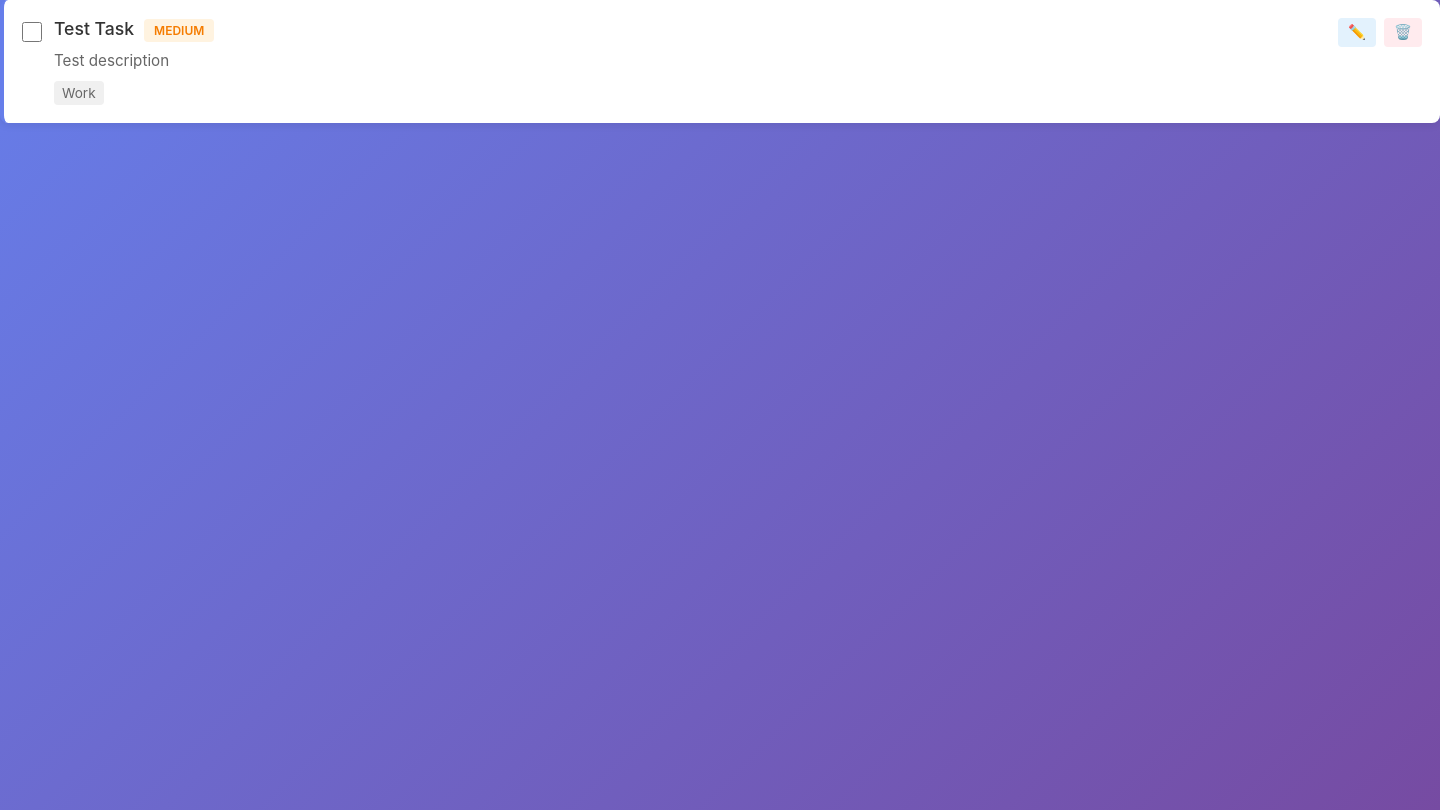
Test case: TodoItem › restores original values and exits edit mode when Cancel is clicked
The width and height of the screenshot is (1440, 810).
Click the button titled "Edit" at point(1357, 32), box [1338, 18, 1376, 47]
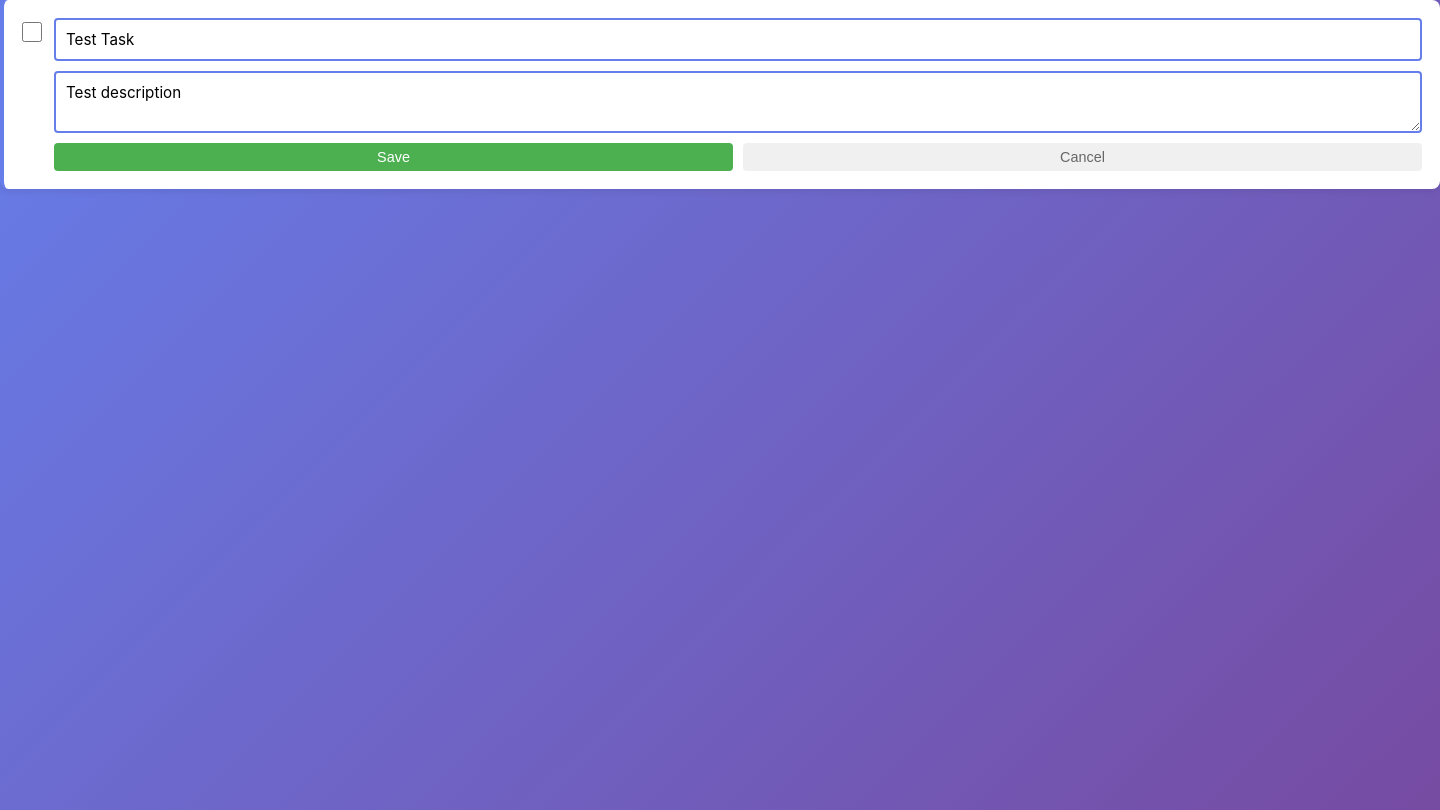
Replace the text in the field with placeholder "Title" with "Changed" at point(738, 40), box [54, 18, 1422, 61]
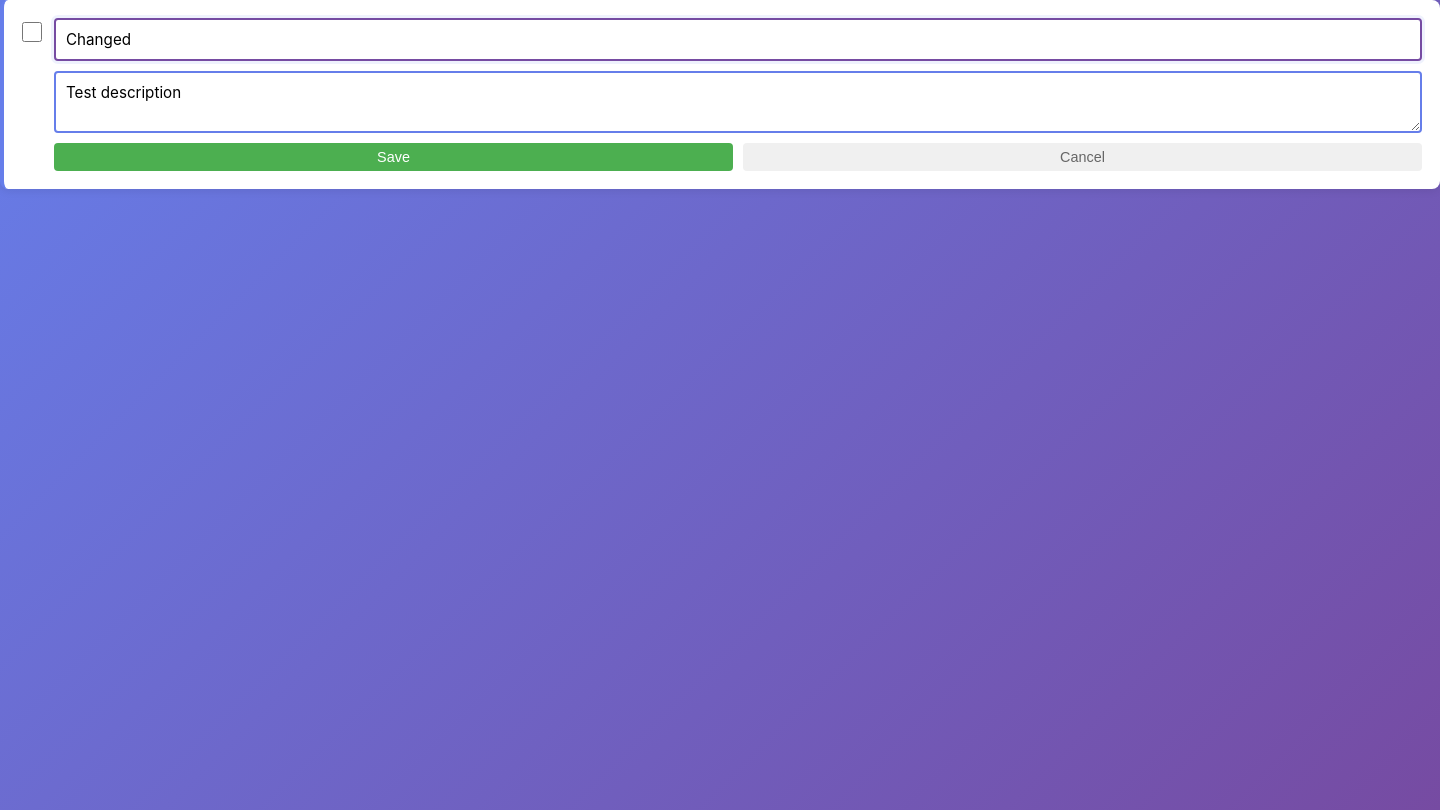
Click the button "Cancel" at point(1082, 157), box [743, 143, 1422, 171]
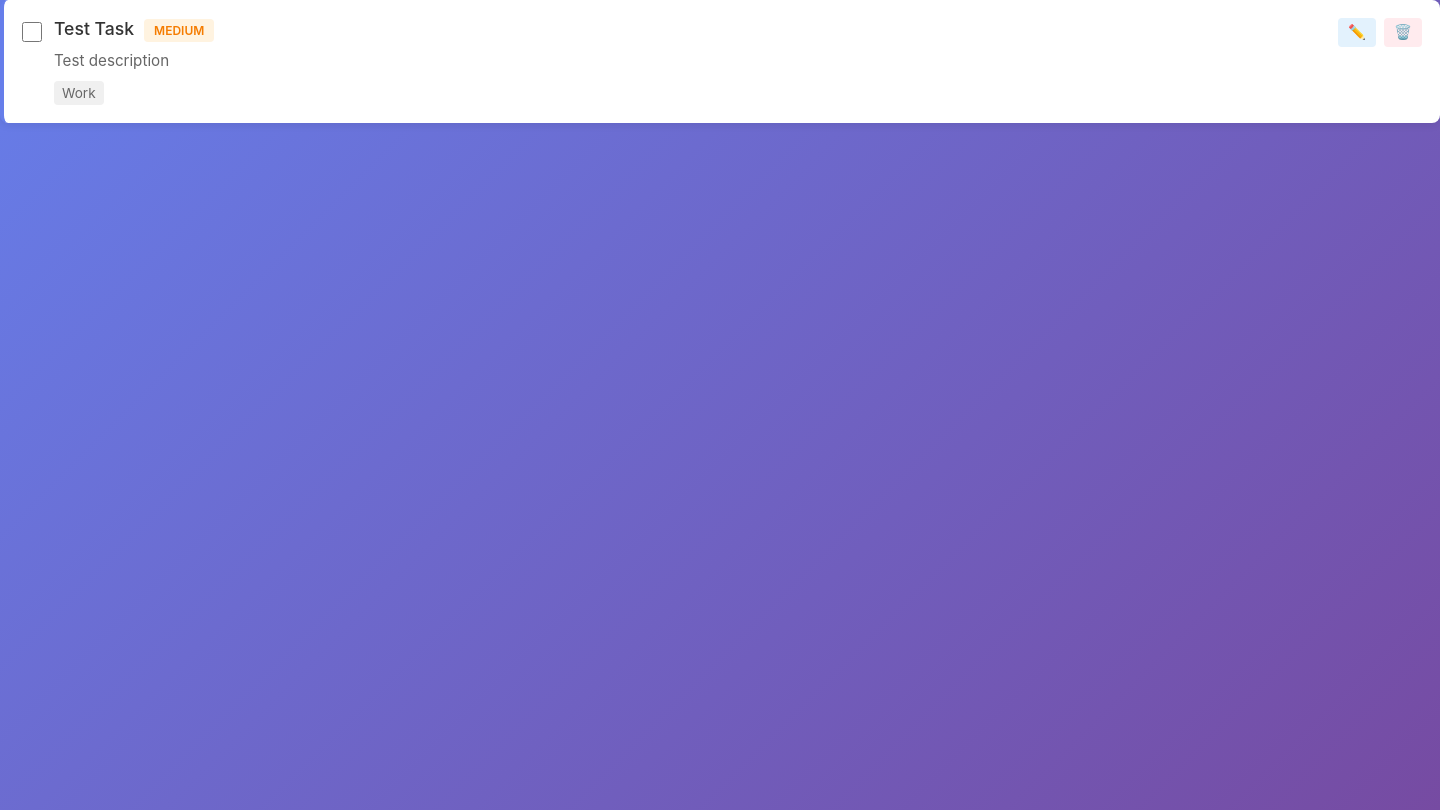
Now the heading "Test Task" is shown, box [54, 18, 134, 39]
Now the field with placeholder "Title" is gone
